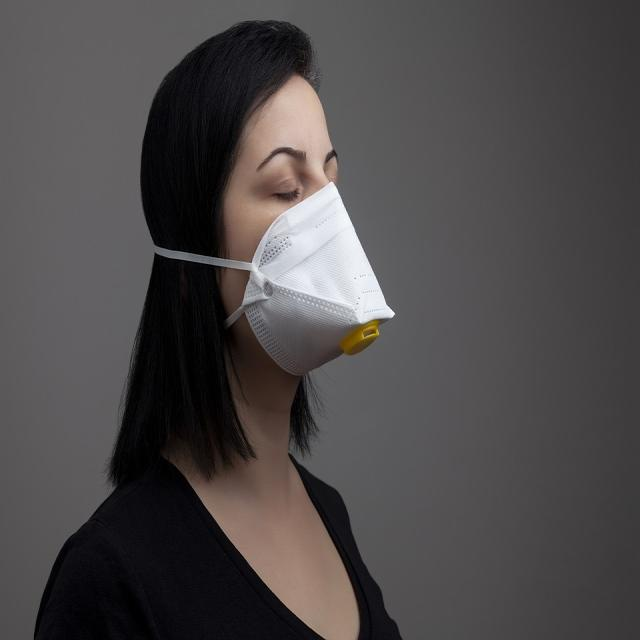1_mascarilla: (227, 180, 397, 372)
